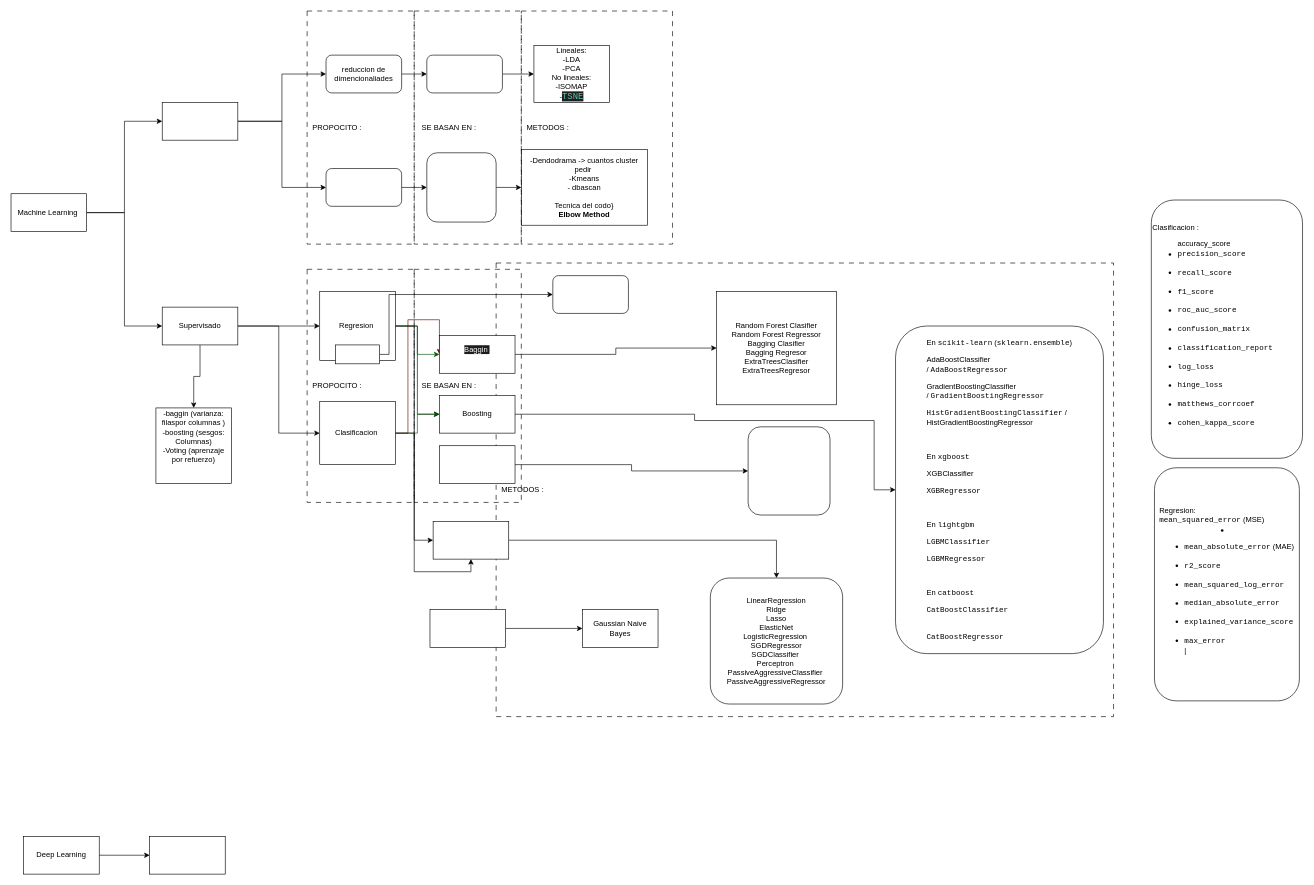
Image size: 1314x885. Some labels were removed from this diagram. The centre of each missing label's shape, as x and y in pixels:
"Agrupar/cluster" belongs at (x=363, y=187).
"ARIMA SARIMA SARIMAX" belongs at (x=590, y=294).
"Arimas" belongs at (x=357, y=354).
"Basado en varianza" belongs at (x=464, y=73).
"Distancias -cerca -lejos Metodos Mahathan Euclideana etc" belongs at (x=461, y=187).
"Hiper plano optimo" belongs at (x=477, y=464).
"Lineales" belongs at (x=470, y=540).
"No supervisado" belongs at (x=200, y=121).
"RNN -Series de tiempo -datos secuenciales" belongs at (x=187, y=855).
"Ruido gaussiano" belongs at (x=467, y=628).
"SVC LinearSVC NuSVC NUSVR" belongs at (x=788, y=470).
